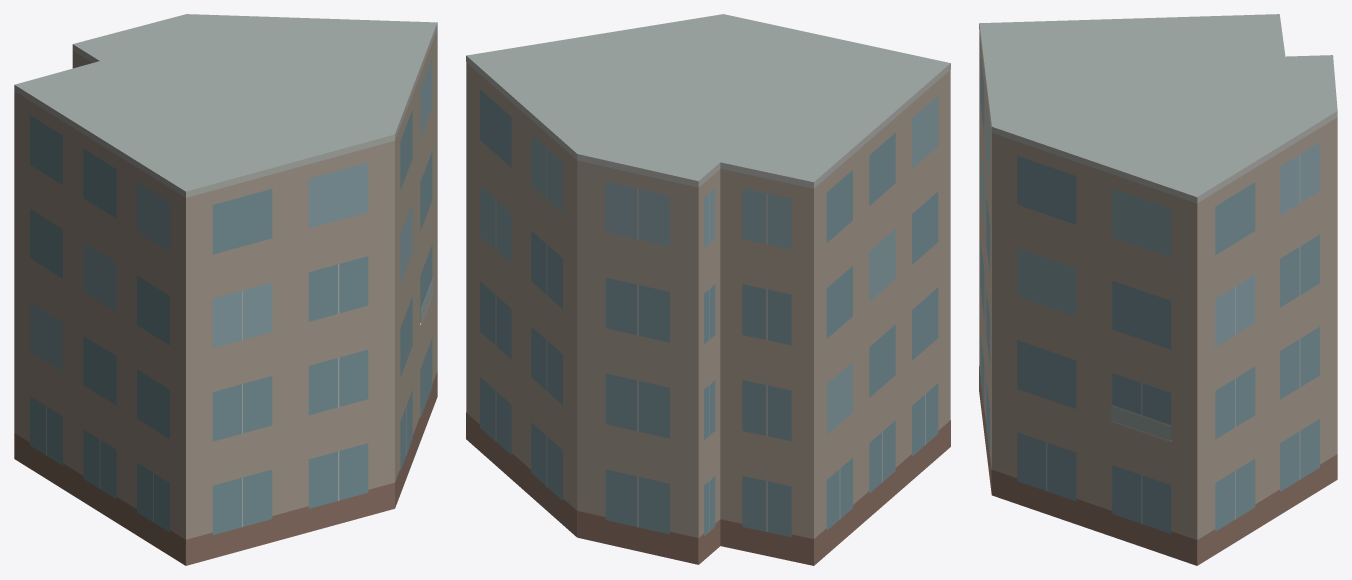
File: survey-upis-32817274.glb
3 renders of one model, left to right at view 1: azimuth 30°, elevation 25°; view 2: azimuth 150°, elevation 25°; view 3: azimuth 270°, elevation 25°, orthographic. The views are drawn at different scales.
Visible parts, largest first — view 1: survey-upis-32817274.tmp; view 2: survey-upis-32817274.tmp; view 3: survey-upis-32817274.tmp.
Part boxes in pixels (x1,y1,x2,y2): survey-upis-32817274.tmp: (14,14,437,565); survey-upis-32817274.tmp: (466,14,950,565); survey-upis-32817274.tmp: (979,14,1337,565).
Size of the model in its own units: 15.57 by 14.6 by 12.87.
